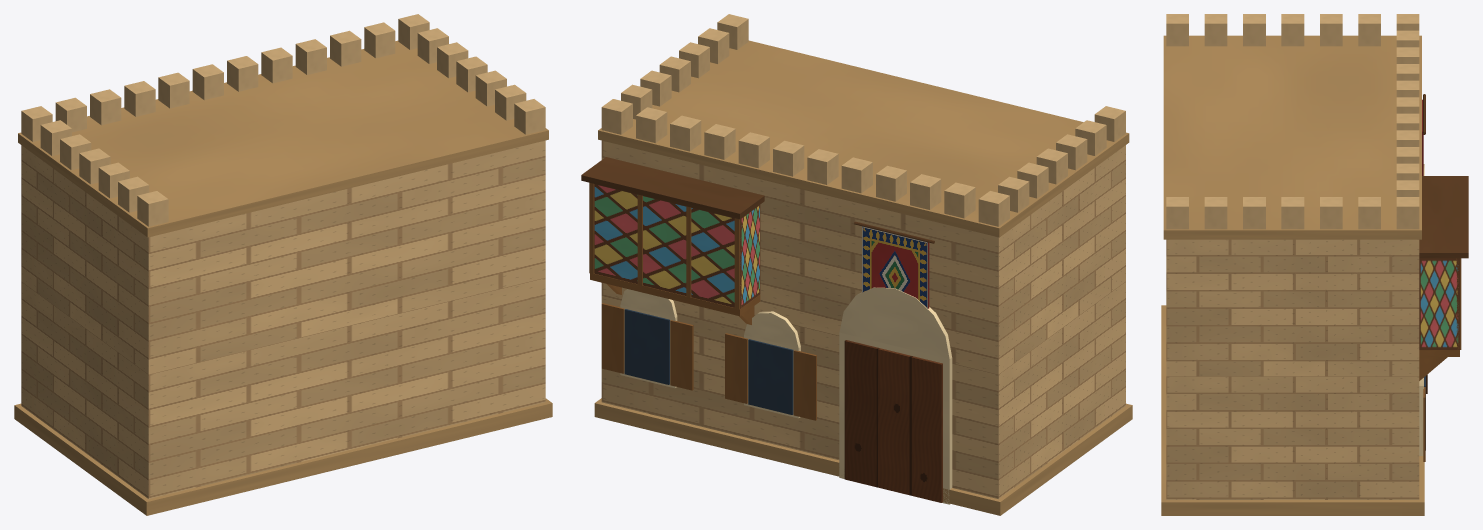
Rendered from env_baku_house_c.glb.
3 views of the same model, side by side, from view 1: azimuth 30°, elevation 25°; view 2: azimuth 150°, elevation 25°; view 3: azimuth 270°, elevation 25° (orthographic).
Visible parts, largest first — view 1: env_baku_house_c; view 2: env_baku_house_c; view 3: env_baku_house_c.
Part boxes in pixels (<box>): env_baku_house_c: <box>14,14,552,515</box>; env_baku_house_c: <box>581,14,1132,515</box>; env_baku_house_c: <box>1161,14,1468,515</box>.
Size of the model in its own units: 9.2 by 6.72 by 6.07.
1 material, 1 textured.
